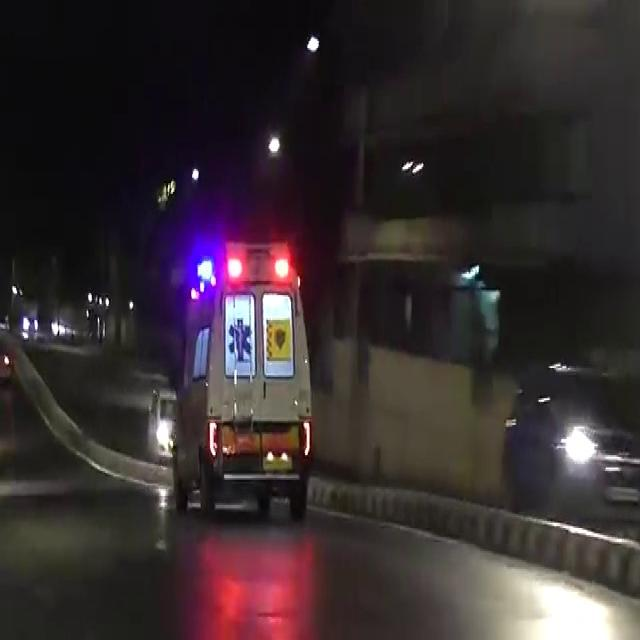ambulance: (183, 236, 316, 508)
